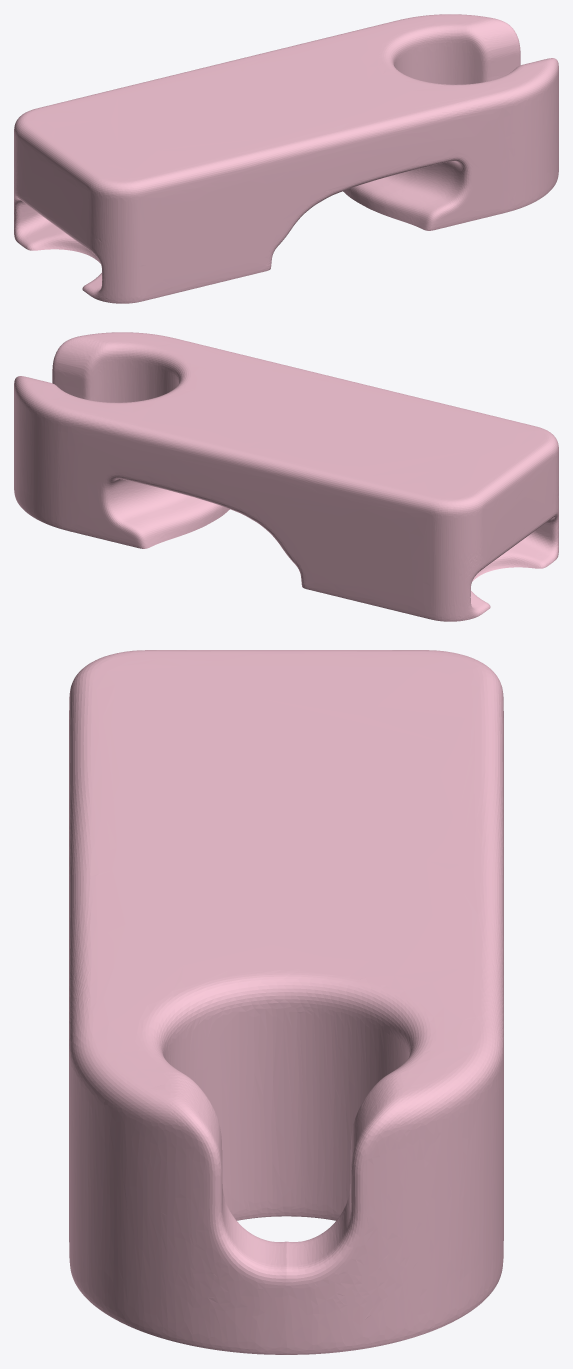
Rendered from abrebotellas-llavero.glb.
3 views of the same model, one above another, from view 1: azimuth 30°, elevation 25°; view 2: azimuth 150°, elevation 25°; view 3: azimuth 270°, elevation 25° (orthographic). The views are drawn at different scales.
Visible parts, largest first — view 1: pieza; view 2: pieza; view 3: pieza.
Part boxes in pixels (x1,y1,x2,y2): pieza: (14, 14, 558, 303); pieza: (14, 332, 558, 621); pieza: (69, 650, 503, 1354).
Bounding box in the file's own units: 0.0573 × 0.0131 × 0.022.
